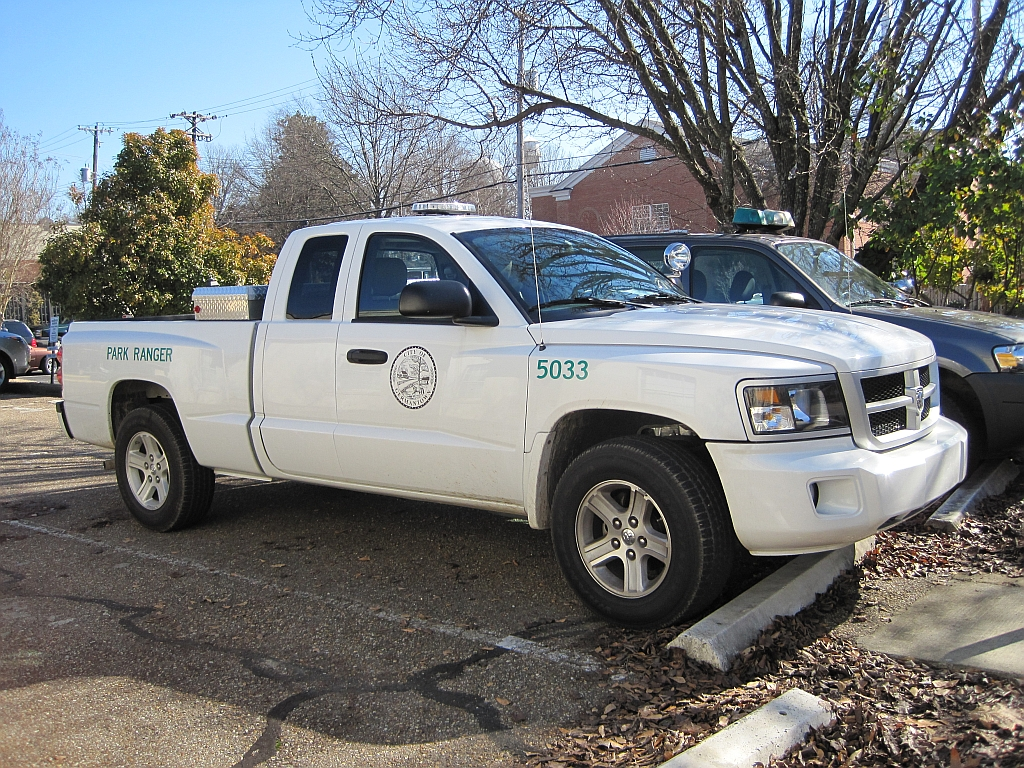Vehicle: (44, 186, 979, 622)
